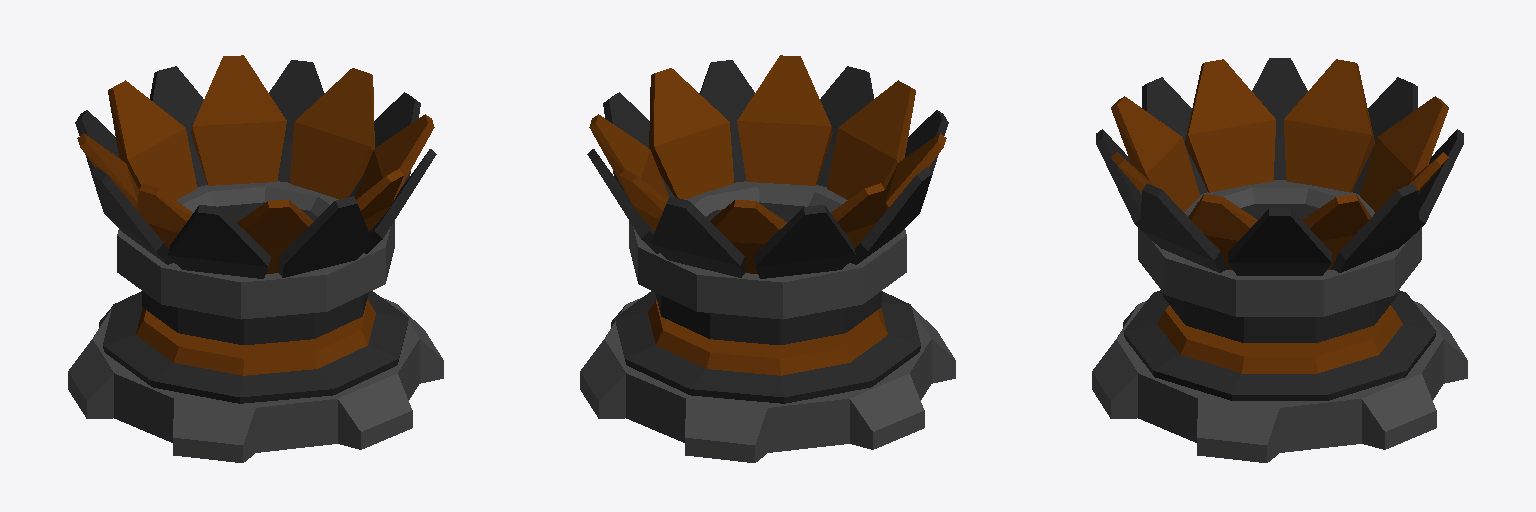
Rendered from Props_Teleporter_1.obj.
The picture shows the model from 3 angles: view 1: azimuth 30°, elevation 25°; view 2: azimuth 150°, elevation 25°; view 3: azimuth 270°, elevation 25°; orthographic projection.
Parts seen in each view (by area): view 1: Props_Teleporter_1_Cylinder.011; view 2: Props_Teleporter_1_Cylinder.011; view 3: Props_Teleporter_1_Cylinder.011.
Boxes of the visible parts, box(x1,y1,x2,y2) form: Props_Teleporter_1_Cylinder.011: box(68, 55, 443, 462); Props_Teleporter_1_Cylinder.011: box(580, 55, 955, 462); Props_Teleporter_1_Cylinder.011: box(1092, 58, 1467, 462).
Size of the model in its own units: 1.21 by 0.9045 by 1.21.